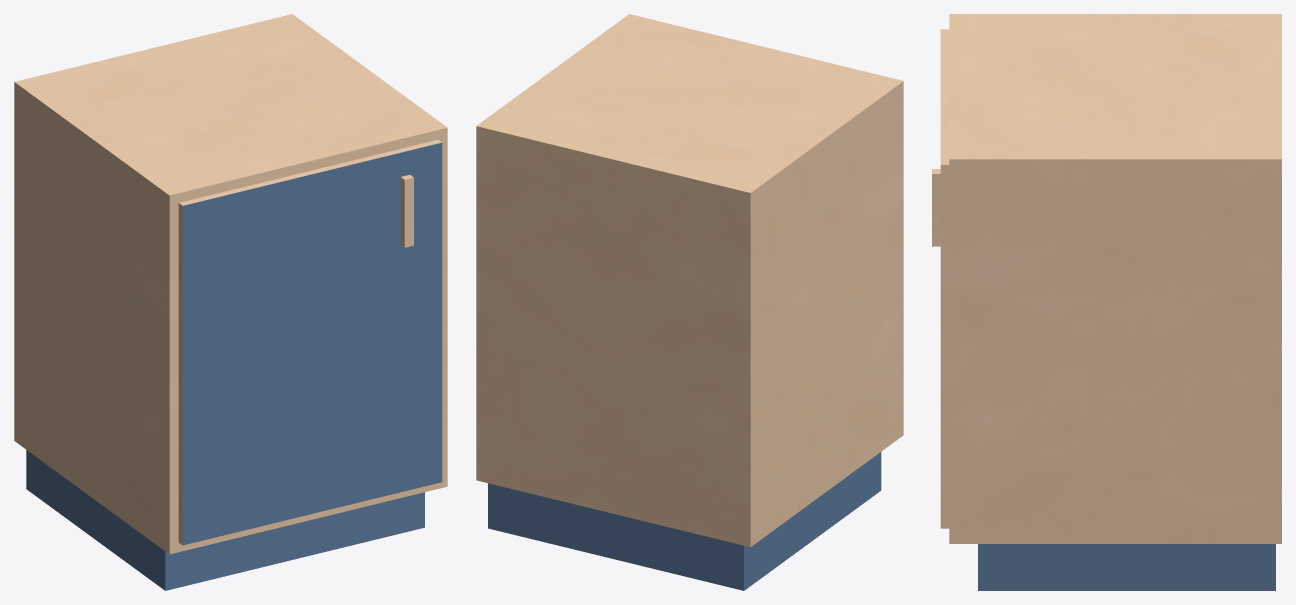
File: Kitchen_Cabinet_Base.fbx
3 views of the same model, side by side, from view 1: azimuth 30°, elevation 25°; view 2: azimuth 150°, elevation 25°; view 3: azimuth 270°, elevation 25° (orthographic). The views are drawn at different scales.
Visible parts, largest first — view 1: Kitchen_Cabinet_Base; view 2: Kitchen_Cabinet_Base; view 3: Kitchen_Cabinet_Base.
Boxes of the visible parts, x1,y1,x2,y2 form: Kitchen_Cabinet_Base: [14, 14, 447, 590]; Kitchen_Cabinet_Base: [476, 14, 903, 590]; Kitchen_Cabinet_Base: [932, 14, 1281, 590].
Size of the model in its own units: 0.6 by 0.84 by 0.61.
1 material, 1 textured.
